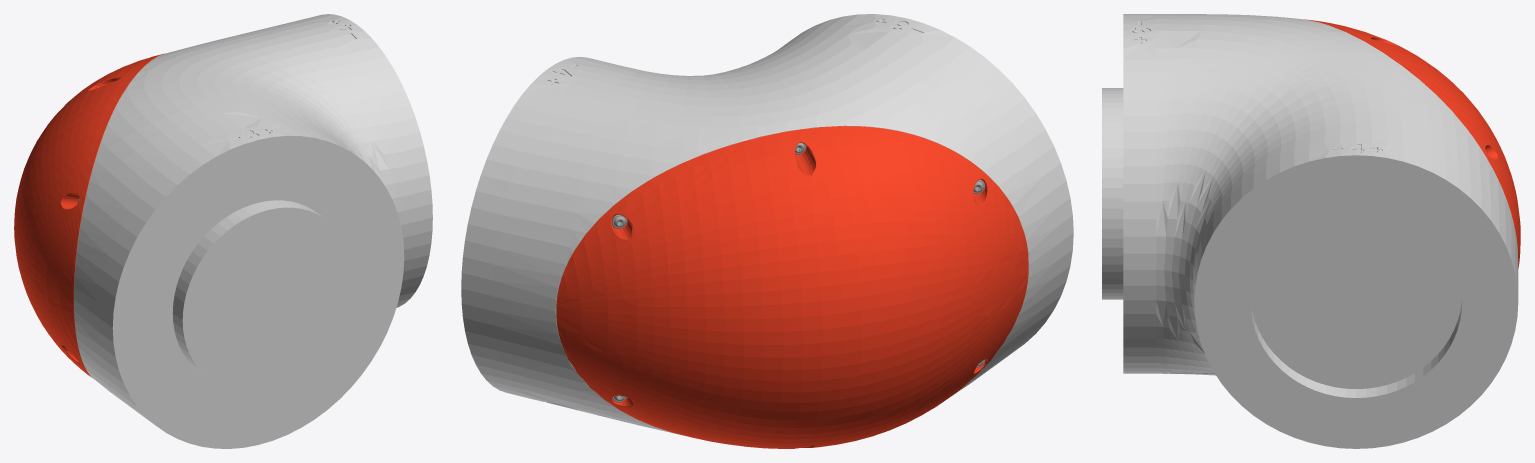
3 views of the same model, side by side, from view 1: azimuth 30°, elevation 25°; view 2: azimuth 150°, elevation 25°; view 3: azimuth 270°, elevation 25° (orthographic). The views are drawn at different scales.
Parts seen in each view (by area): view 1: link_3; view 2: link_3; view 3: link_3.
Boxes of the visible parts, x1=… form: link_3: x1=14, y1=14, x2=432, y2=448; link_3: x1=461, y1=14, x2=1073, y2=448; link_3: x1=1102, y1=14, x2=1520, y2=448.
Bounding box in the file's own units: 0.2066 × 0.1977 × 0.17.
